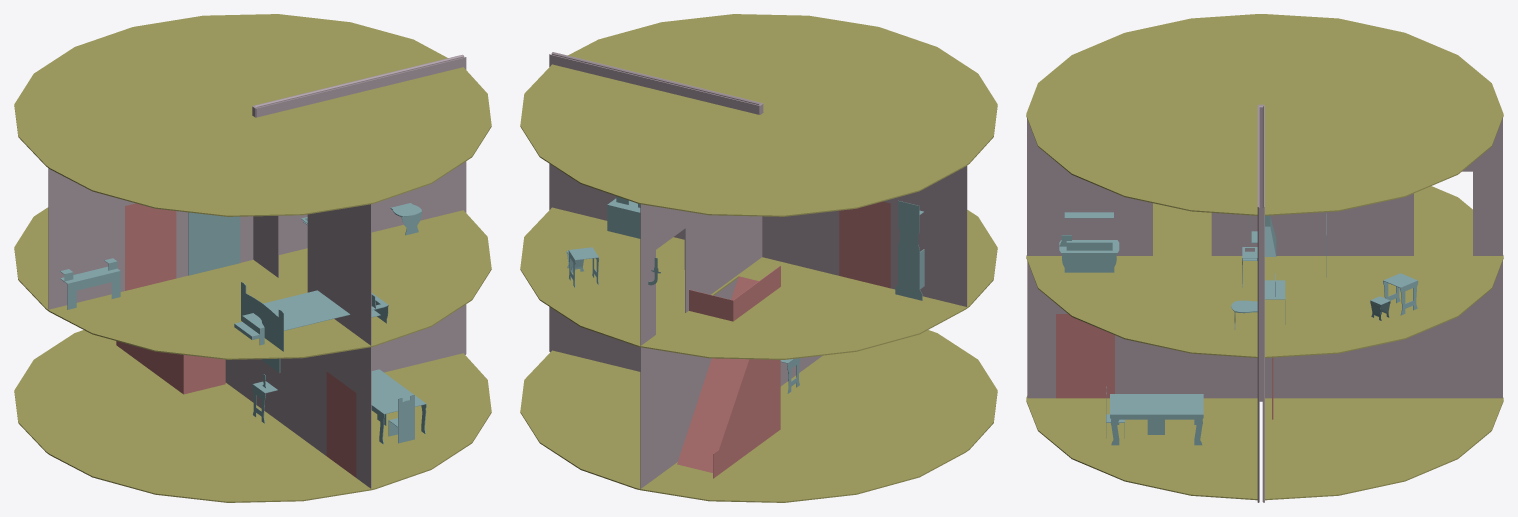
Rendered from MainGameModels_v01.fbx.
3 renders of one model, left to right at view 1: azimuth 30°, elevation 25°; view 2: azimuth 150°, elevation 25°; view 3: azimuth 270°, elevation 25°, orthographic.
Parts seen in each view (by area): view 1: Paper_roof, Paper_floor, Paper_floor2, Book_covers, Paper_wall_6_7, Paper_wall_bottom, Paper_wall_5_6, Door, Bed, DoorSnake, StairsBase, DinningTable (+7 smaller); view 2: Paper_roof, Paper_floor, Paper_floor2, Paper_wall_6_7, Paper_wall_7_8, Book_covers, Paper_wall_bottom, StairsBase, Door, Clock_base, StairsDoor, KitchenFires (+5 smaller); view 3: Paper_roof, Paper_floor2, Paper_floor, Paper_wall_bottom, Paper_wall_5_6, Paper_wall_7_8, DoorSnake, DinningTable, Book_covers, Bath_estructure, KitchenTable, CellarDoor.
Boxes of the visible parts, <box> form: Paper_roof: <box>14,14,491,216</box>; Paper_floor: <box>14,330,491,502</box>; Paper_floor2: <box>14,207,491,359</box>; Book_covers: <box>252,54,466,372</box>; Paper_wall_6_7: <box>48,168,253,309</box>; Paper_wall_bottom: <box>225,347,371,488</box>; Paper_wall_5_6: <box>253,204,371,345</box>; Door: <box>125,203,176,290</box>; Bed: <box>241,282,350,351</box>; DoorSnake: <box>326,372,356,477</box>; StairsBase: <box>122,343,225,394</box>; DinningTable: <box>371,369,426,444</box>; Paper_roof: <box>520,14,997,216</box>; Paper_floor: <box>520,330,997,502</box>; Paper_floor2: <box>520,207,997,359</box>; Paper_wall_6_7: <box>762,166,967,306</box>; Paper_wall_7_8: <box>640,204,762,345</box>; Book_covers: <box>549,52,763,371</box>; Paper_wall_bottom: <box>640,278,822,488</box>; StairsBase: <box>677,276,780,474</box>; Door: <box>839,201,890,288</box>; Clock_base: <box>895,200,924,300</box>; StairsDoor: <box>751,376,770,450</box>; KitchenFires: <box>607,196,640,238</box>; Paper_roof: <box>1026,14,1503,215</box>; Paper_floor2: <box>1026,186,1503,357</box>; Paper_floor: <box>1026,396,1503,500</box>; Paper_wall_bottom: <box>1027,261,1502,398</box>; Paper_wall_5_6: <box>1027,118,1257,255</box>; Paper_wall_7_8: <box>1270,118,1502,255</box>; DoorSnake: <box>1056,314,1114,398</box>; DinningTable: <box>1110,394,1203,445</box>; Book_covers: <box>1257,104,1264,502</box>; Bath_estructure: <box>1059,235,1119,272</box>; KitchenTable: <box>1383,273,1418,315</box>; CellarDoor: <box>1273,260,1311,277</box>.
Size of the model in its own units: 1204 by 820 by 1200.
